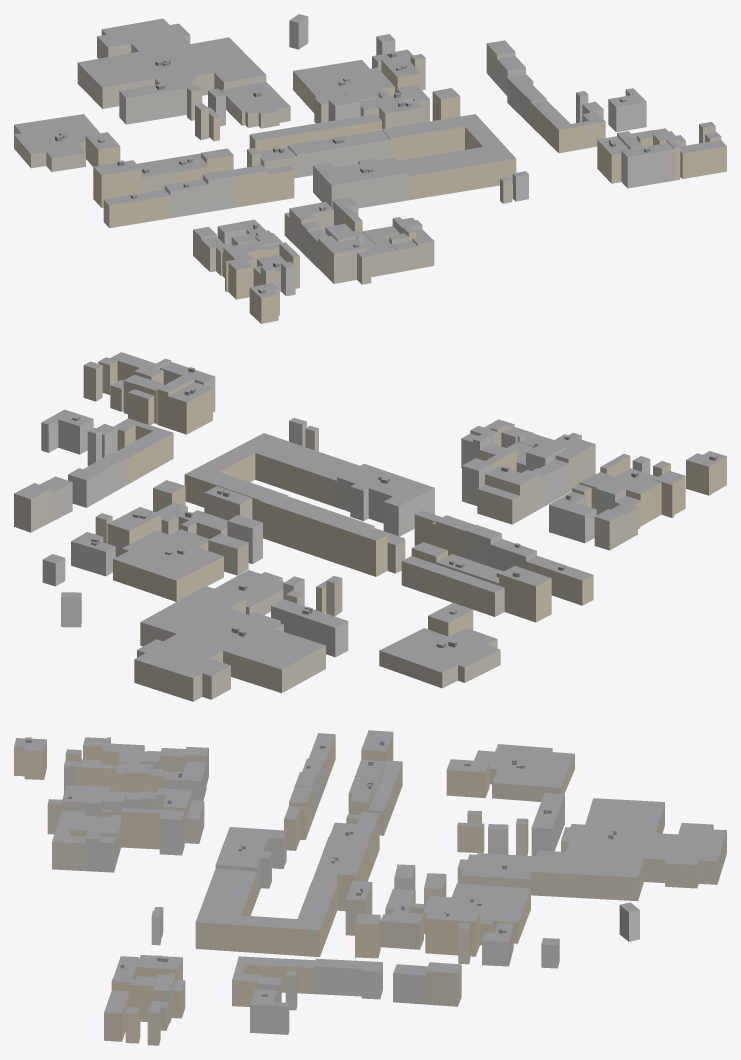
The model's file is building_1_-3.glb.
3 views of the same model, one above another, from view 1: azimuth 30°, elevation 25°; view 2: azimuth 150°, elevation 25°; view 3: azimuth 270°, elevation 25° (orthographic). The views are drawn at different scales.
Visible parts, largest first — view 1: roof, sandstone, concrete_light, concrete_warm; view 2: roof, sandstone, concrete_warm, concrete_light; view 3: roof, sandstone, concrete_warm, concrete_light.
Boxes of the visible parts, box(x1,y1,x2,y2) form: roof: box(14, 14, 726, 297); sandstone: box(85, 60, 726, 323); concrete_light: box(119, 17, 674, 296); concrete_warm: box(14, 30, 715, 291); roof: box(14, 352, 726, 678); sandstone: box(98, 360, 726, 636); concrete_warm: box(14, 365, 637, 701); concrete_light: box(41, 368, 650, 657); roof: box(14, 730, 726, 1013); sandstone: box(14, 732, 530, 1043); concrete_warm: box(47, 748, 726, 1045); concrete_light: box(64, 753, 639, 1034).
Size of the model in its own units: 265 by 17.18 by 278.
